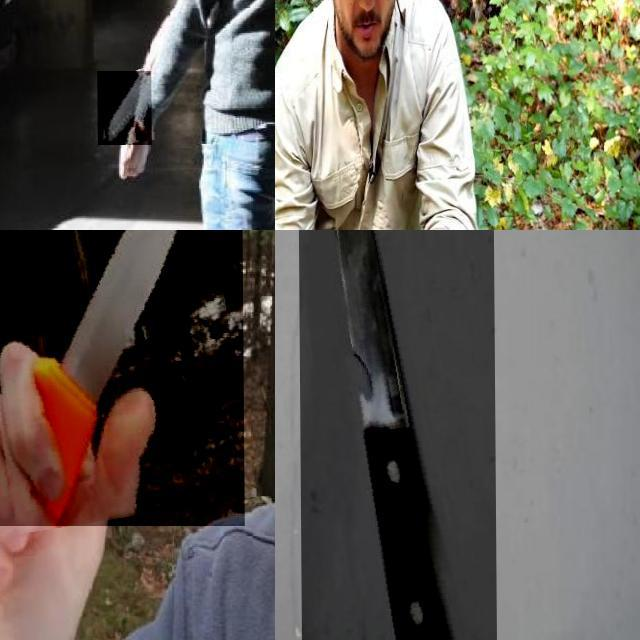-: (297, 230, 496, 640), (0, 230, 244, 526), (98, 71, 152, 145)
